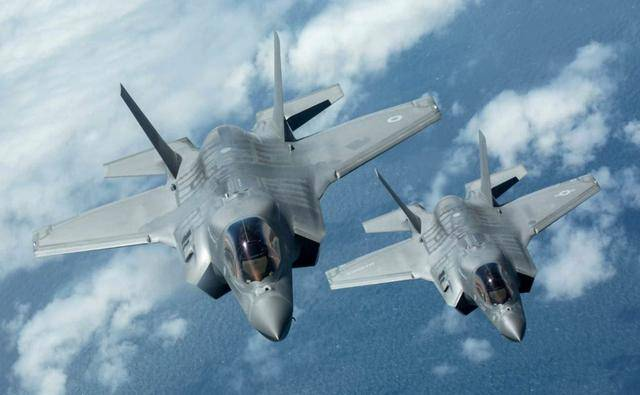airplane: (32, 30, 440, 361), (324, 127, 602, 343)
